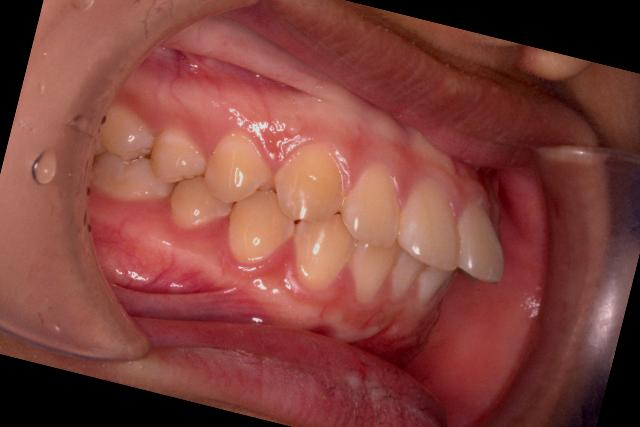canine class I: (215, 119, 378, 299)
molar class I: (83, 90, 191, 218)
